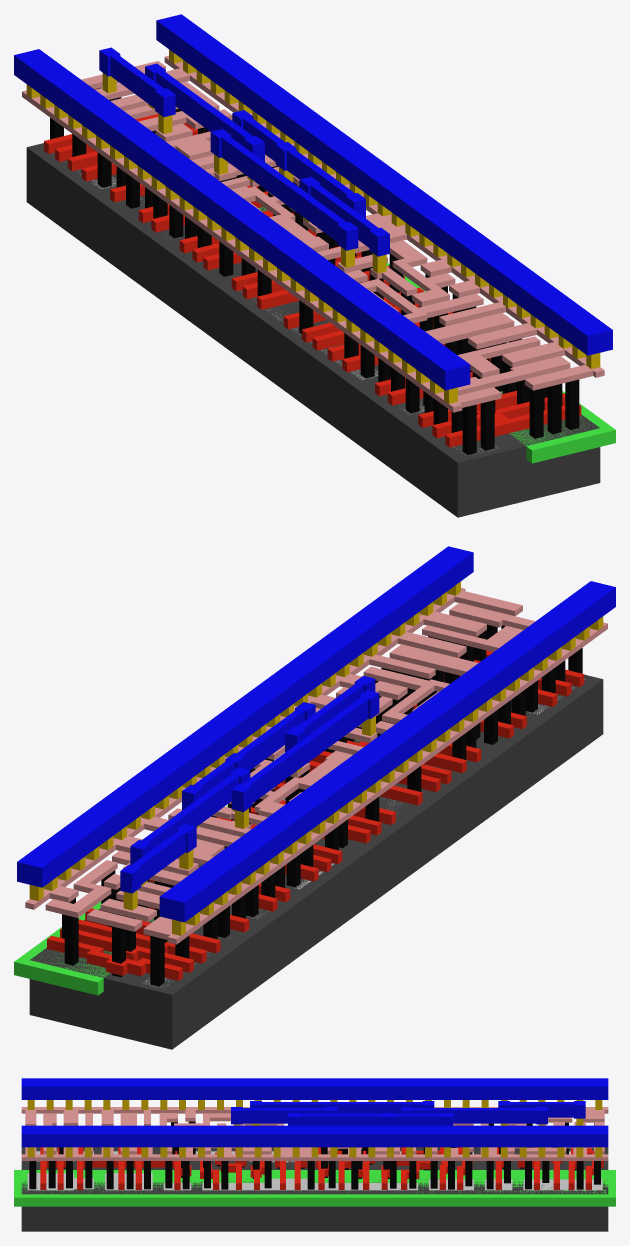
Rendered from sky130_fd_sc_hd__sdfsbp_2.obj.
3 views of the same model, one above another, from view 1: azimuth 30°, elevation 25°; view 2: azimuth 150°, elevation 25°; view 3: azimuth 270°, elevation 25° (orthographic). The views are drawn at different scales.
Visible parts, largest first — view 1: metal1, subs, li, licon, poly, mcon, nwell; view 2: metal1, subs, li, poly, licon, mcon, nwell; view 3: metal1, subs, nwell, li, licon, poly, mcon, tap.
Part boxes in pixels (bbox=[...]): metal1: bbox=[14, 14, 612, 390]; subs: bbox=[26, 143, 600, 517]; li: bbox=[22, 55, 604, 412]; licon: bbox=[50, 87, 579, 454]; poly: bbox=[44, 114, 581, 447]; mcon: bbox=[26, 49, 600, 403]; nwell: bbox=[259, 207, 615, 463]; metal1: bbox=[17, 546, 615, 922]; subs: bbox=[29, 674, 603, 1049]; li: bbox=[25, 587, 607, 944]; poly: bbox=[47, 650, 584, 980]; licon: bbox=[62, 624, 582, 986]; mcon: bbox=[29, 581, 603, 935]; nwell: bbox=[14, 740, 358, 995]; metal1: bbox=[21, 1078, 608, 1147]; subs: bbox=[21, 1147, 608, 1231]; nwell: bbox=[14, 1170, 615, 1206]; li: bbox=[21, 1107, 608, 1160]; licon: bbox=[29, 1121, 601, 1189]; poly: bbox=[40, 1147, 603, 1189]; mcon: bbox=[27, 1100, 602, 1157]; tap: bbox=[27, 1173, 602, 1190].
Size of the model in its own units: 3.2 by 2.74 by 14.64.
